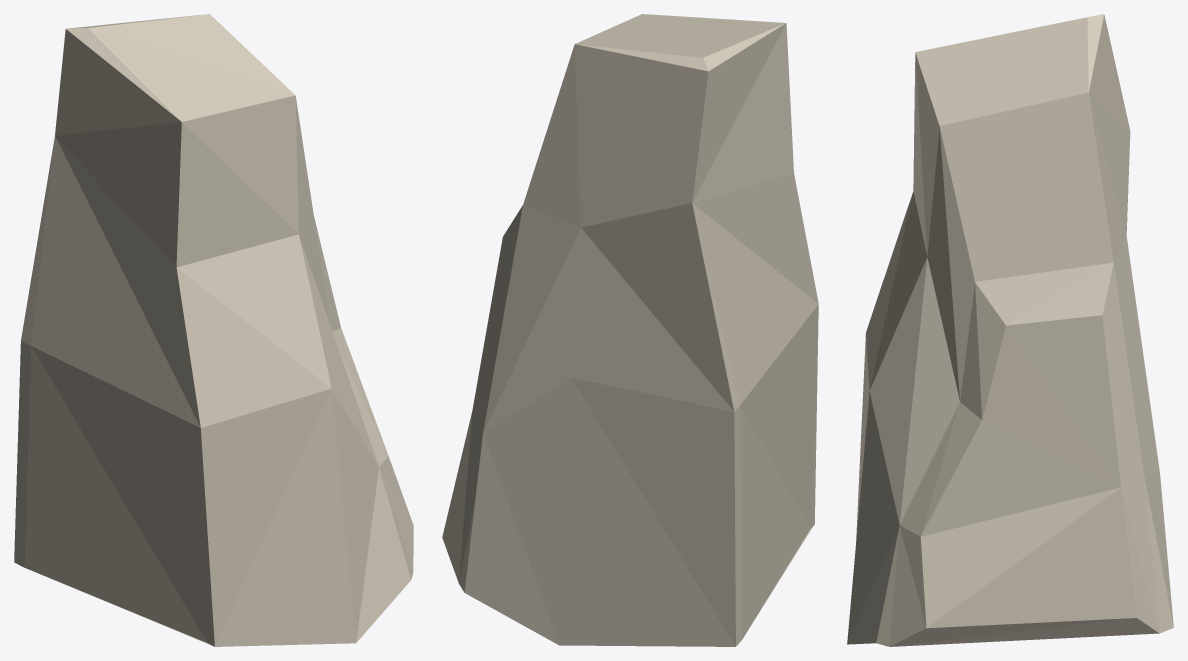
Rendered from rock-1.glb.
3 renders of one model, left to right at view 1: azimuth 30°, elevation 25°; view 2: azimuth 150°, elevation 25°; view 3: azimuth 270°, elevation 25°, orthographic. The views are drawn at different scales.
Visible parts, largest first — view 1: Rock_1; view 2: Rock_1; view 3: Rock_1.
Boxes of the visible parts, box(x1,y1,x2,y2) form: Rock_1: box(14, 14, 413, 646); Rock_1: box(442, 14, 818, 646); Rock_1: box(847, 14, 1173, 646).
Bounding box in the file's own units: 0.4853 × 0.8778 × 0.4668.
